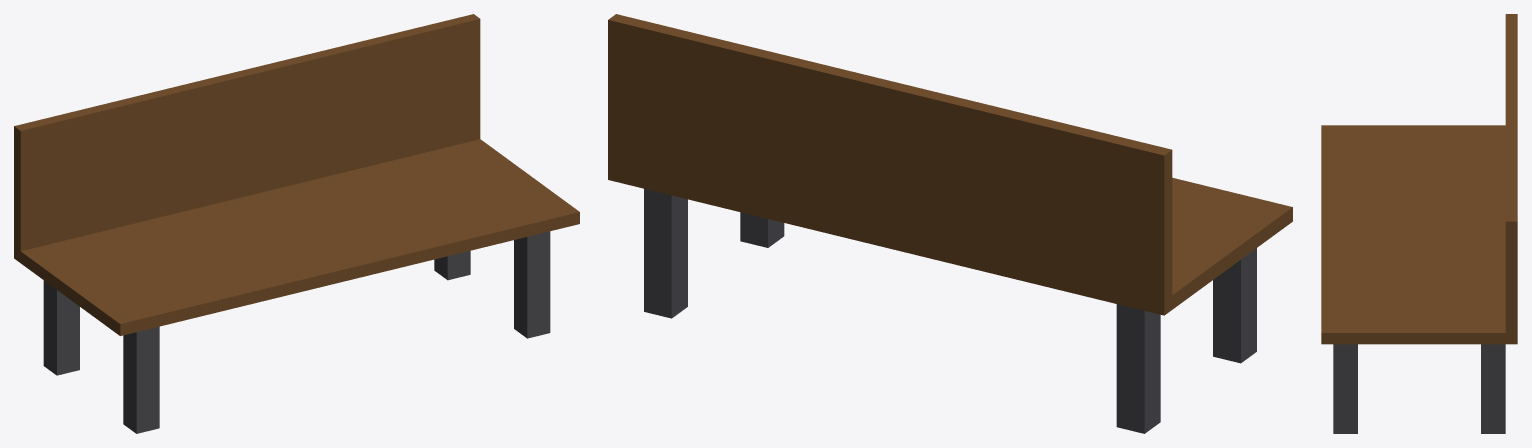
Rendered from bench.obj.
3 views of the same model, side by side, from view 1: azimuth 30°, elevation 25°; view 2: azimuth 150°, elevation 25°; view 3: azimuth 270°, elevation 25° (orthographic). The views are drawn at different scales.
Visible parts, largest first — view 1: Bench; view 2: Bench; view 3: Bench.
Part boxes in pixels (x1,y1,x2,y2): Bench: (14,14,579,433); Bench: (608,14,1292,433); Bench: (1321,14,1517,433).
Size of the model in its own units: 2 by 1 by 0.8.
